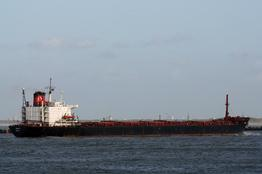Cargoship: (7, 73, 250, 139)
